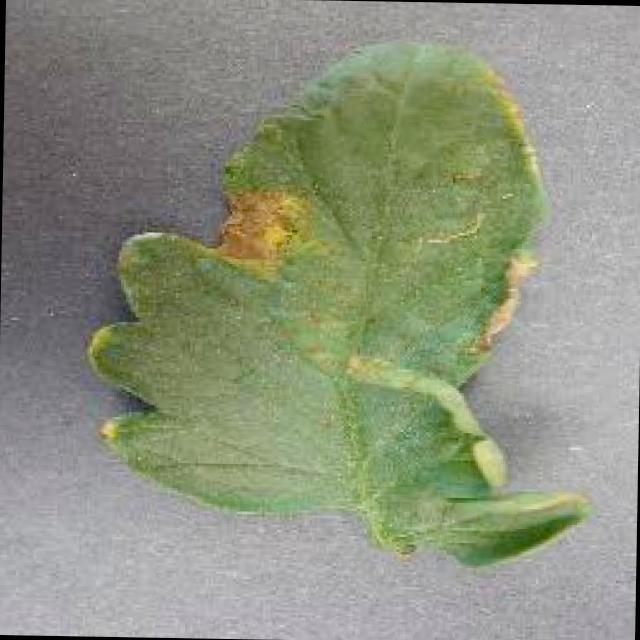Tomato bacterial spot leaf: (71, 21, 607, 582)
